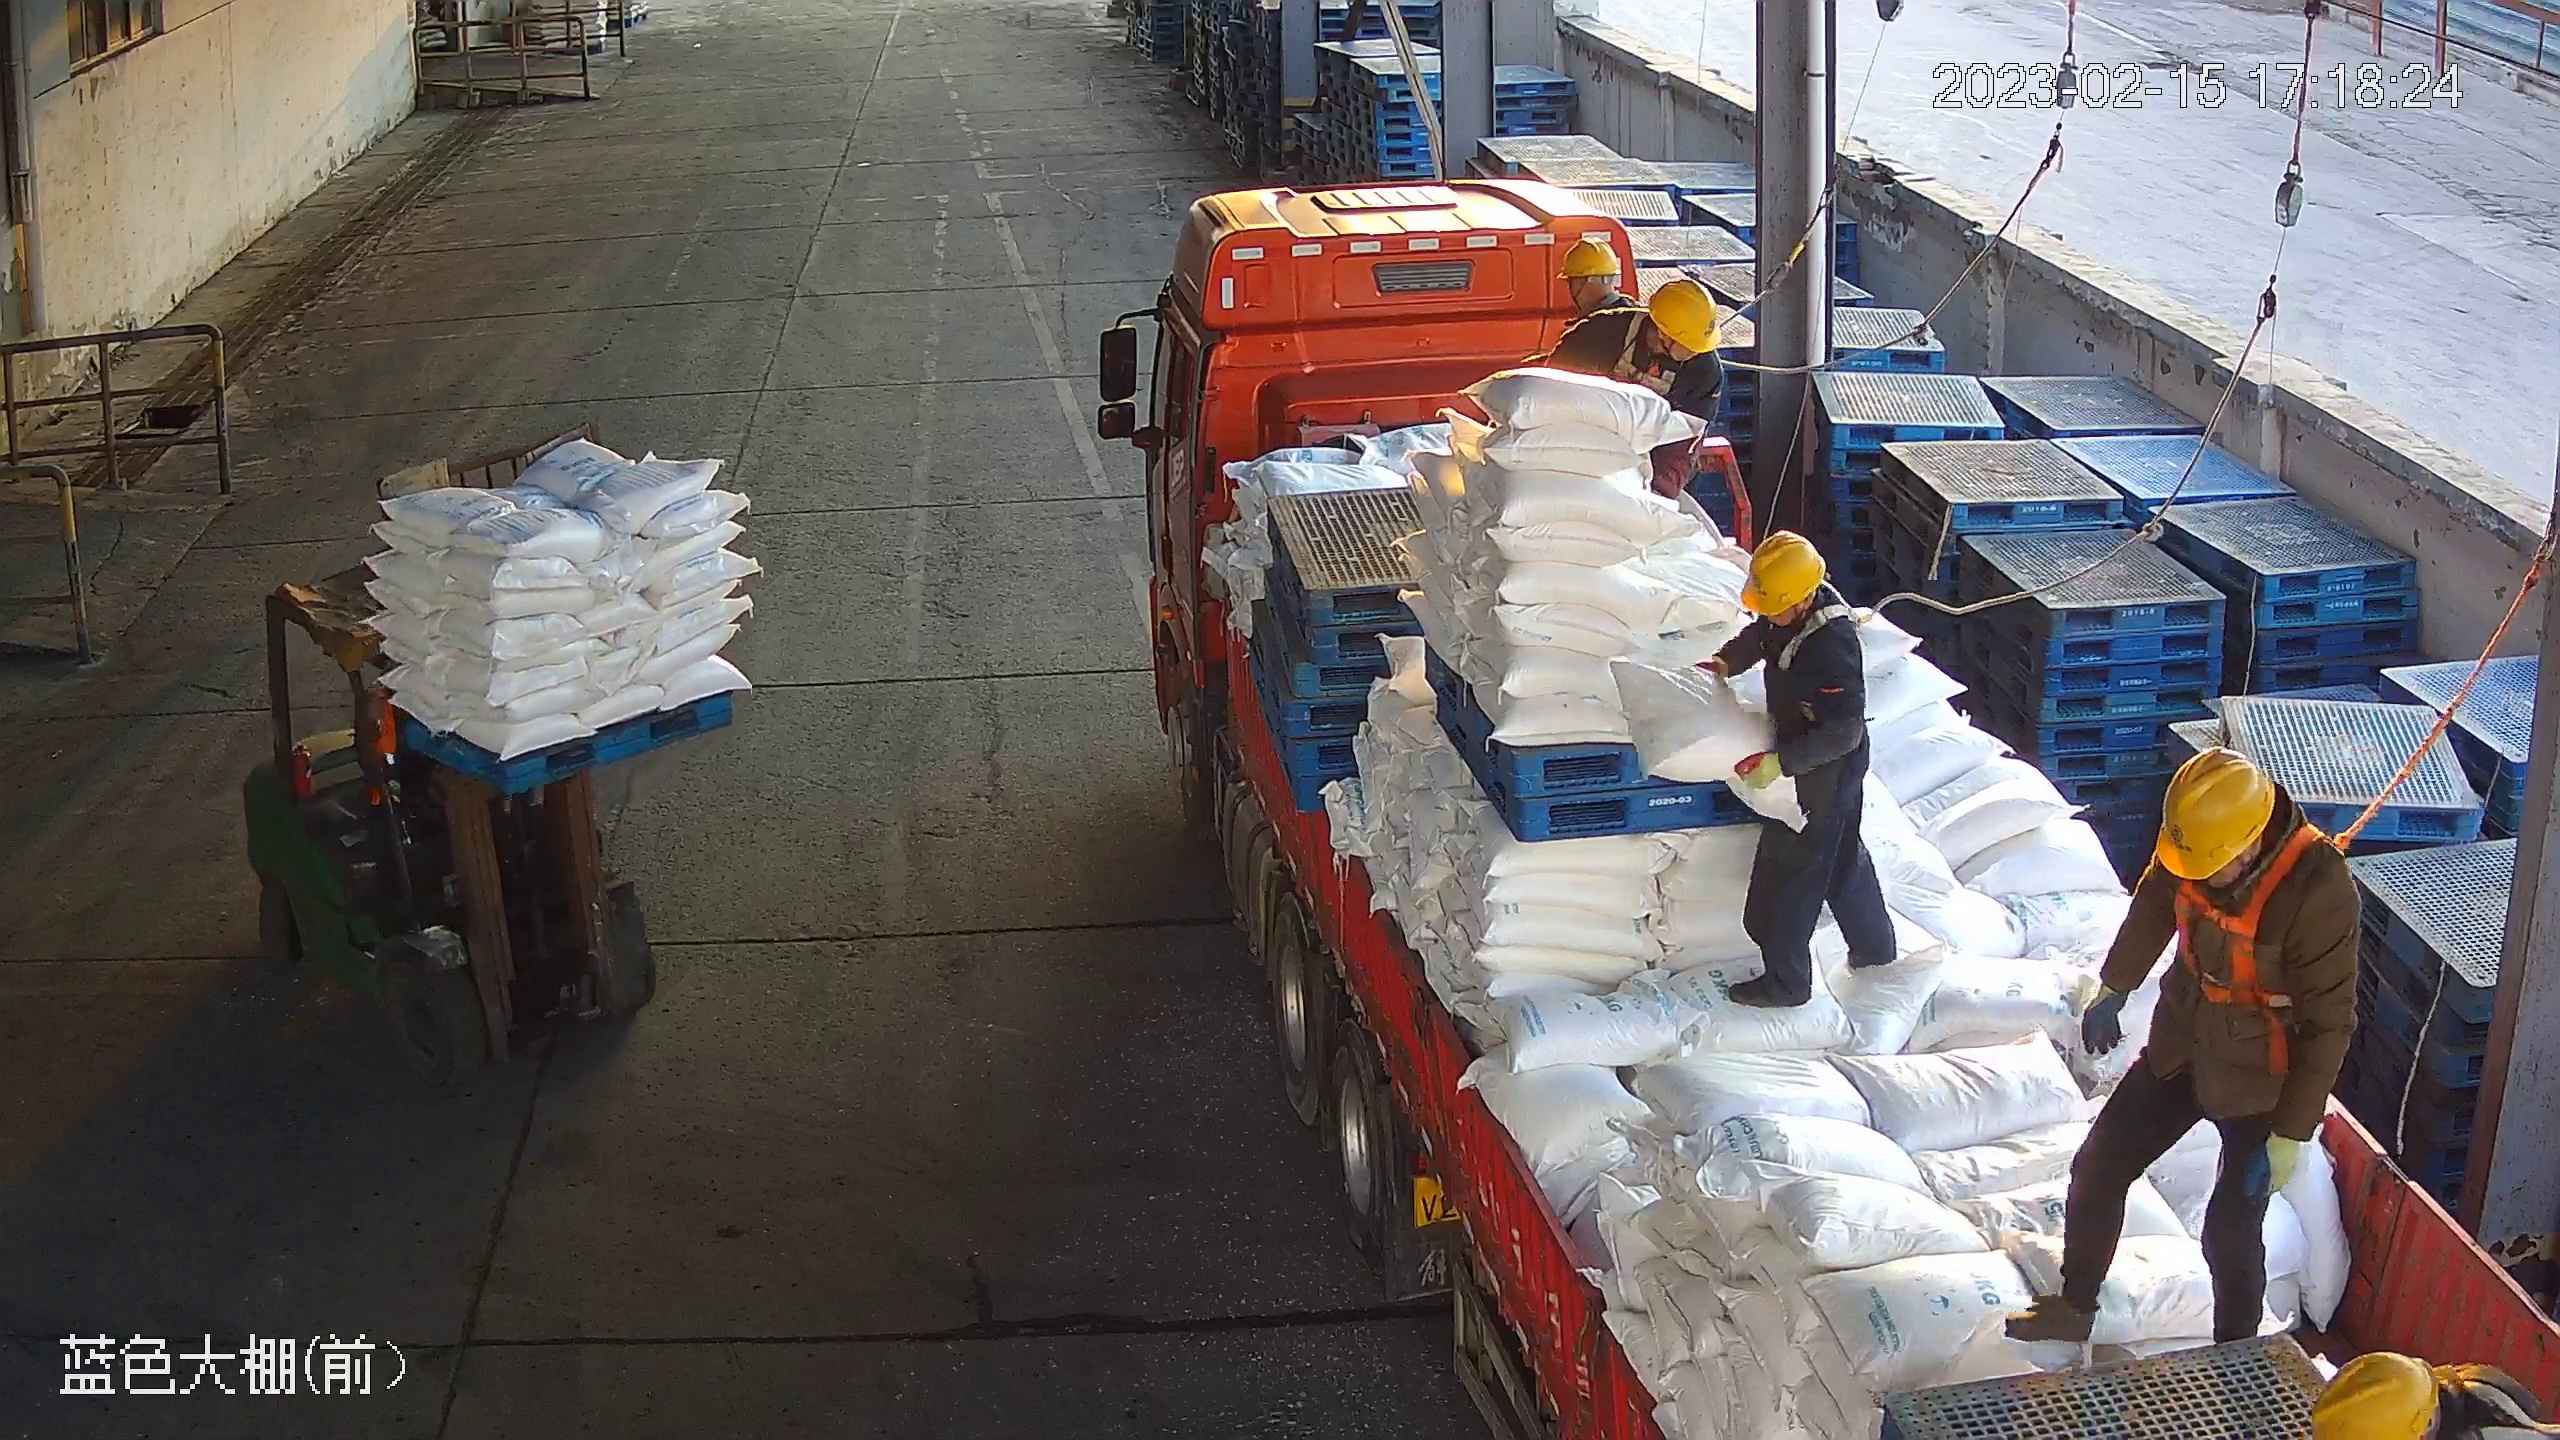belt: (2165, 881, 2311, 1016), (2453, 1364, 2544, 1440), (1765, 613, 1849, 677), (1614, 346, 1676, 404)
head: (2135, 750, 2355, 929), (1721, 527, 1865, 660), (1597, 276, 1732, 392)
helmet: (2142, 746, 2274, 881), (2309, 1351, 2434, 1440), (1735, 534, 1827, 615), (1646, 276, 1723, 355), (1555, 236, 1623, 278)
people: (2004, 746, 2363, 1355), (1706, 529, 1902, 1009)
truck: (1092, 176, 2560, 1440)
